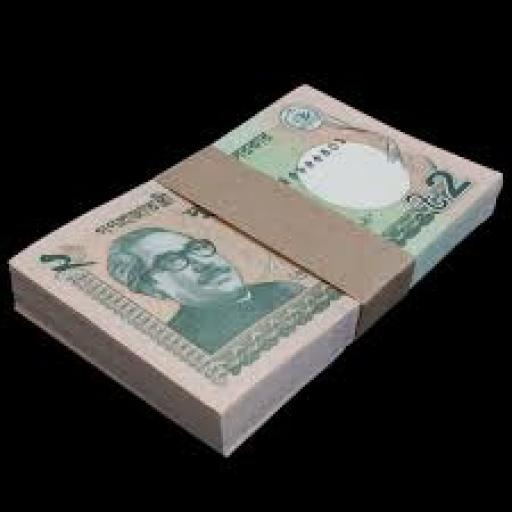2taka: (7, 83, 502, 415)
